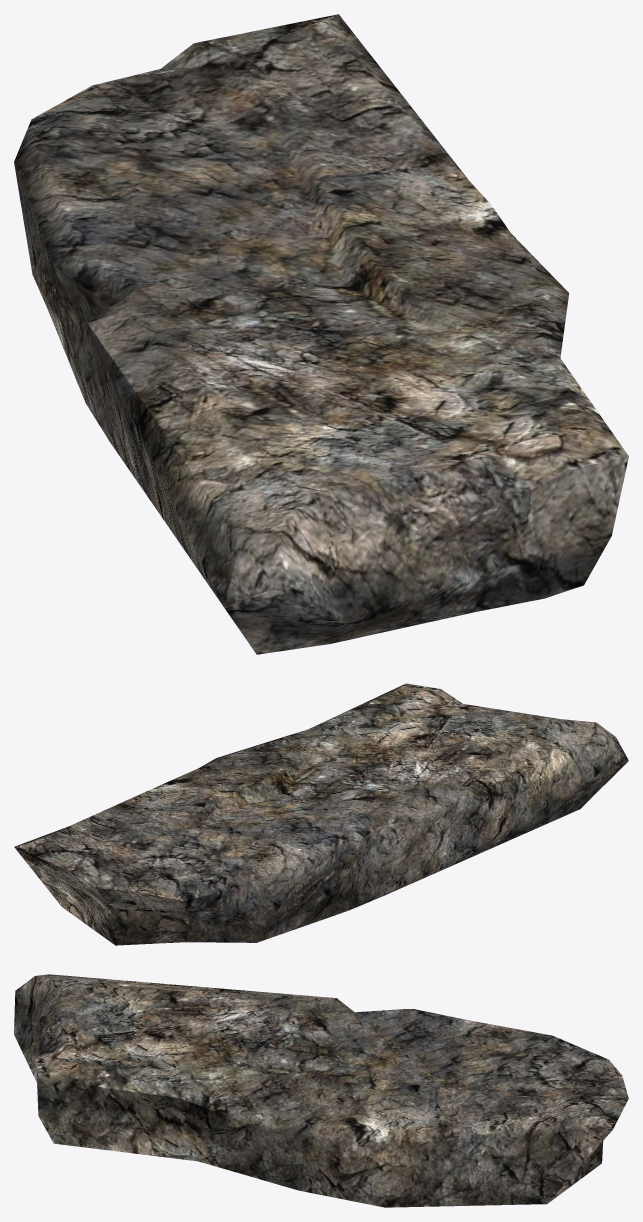
The model's file is pir_m_prp_cav_rock_h.fbx.
3 views of the same model, one above another, from view 1: azimuth 30°, elevation 25°; view 2: azimuth 150°, elevation 25°; view 3: azimuth 270°, elevation 25° (orthographic). The views are drawn at different scales.
Visible parts, largest first — view 1: lod_high; view 2: lod_high; view 3: lod_high.
Boxes of the visible parts, x1=… form: lod_high: x1=14, y1=14, x2=628, y2=654; lod_high: x1=14, y1=683, x2=628, y2=945; lod_high: x1=14, y1=974, x2=628, y2=1207.
Size of the model in its own units: 1666 by 391 by 2503.
1 material, 1 textured.
